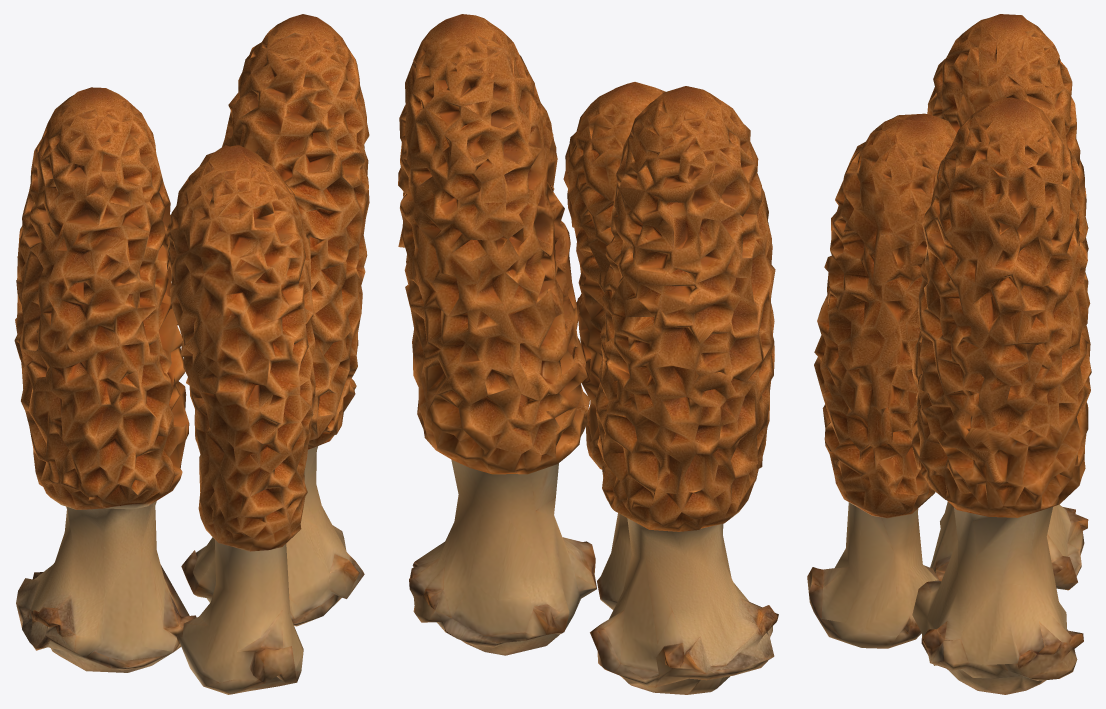
File: mushroom_morchel.glb
The picture shows the model from 3 angles, left to right: view 1: azimuth 30°, elevation 25°; view 2: azimuth 150°, elevation 25°; view 3: azimuth 270°, elevation 25°; orthographic projection. The views are drawn at different scales.
Visible parts, largest first — view 1: mushroom_morchel_0; view 2: mushroom_morchel_0; view 3: mushroom_morchel_0.
Part boxes in pixels (<box>): mushroom_morchel_0: <box>14,14,369,694</box>; mushroom_morchel_0: <box>398,14,778,694</box>; mushroom_morchel_0: <box>807,14,1091,694</box>.
Bounding box in the file's own units: 0.2741 × 0.45 × 0.1965.
Materials: 1 (1 with a texture image).
